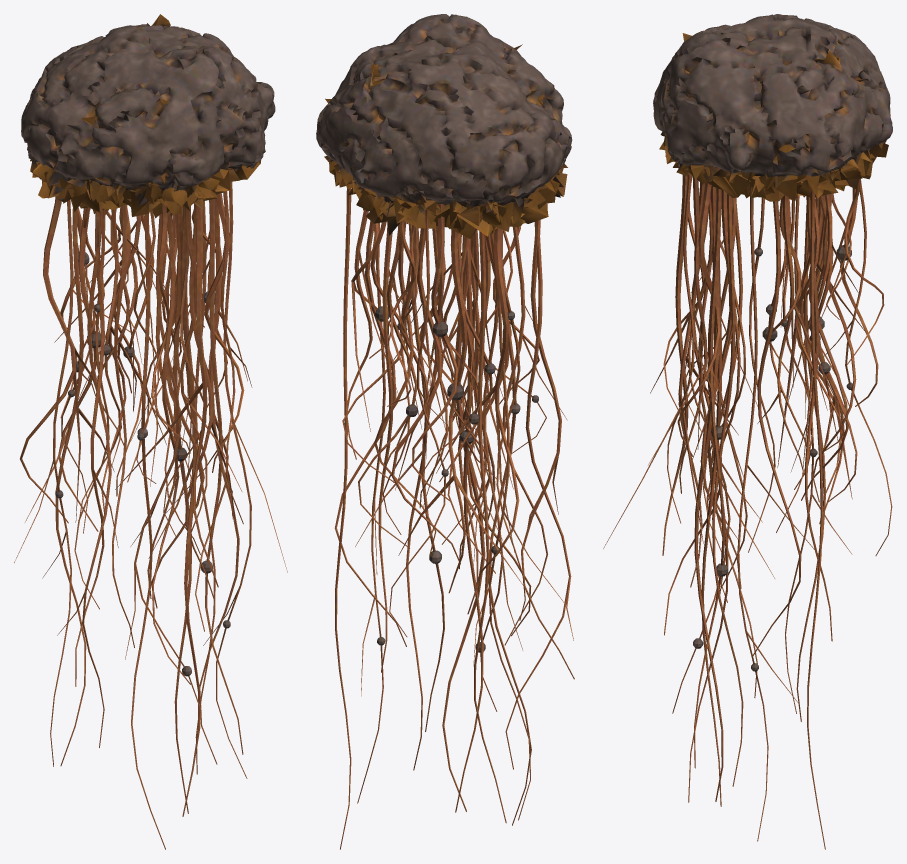
Rendered from jup_colony_lobe.glb.
The picture shows the model from 3 angles, left to right: view 1: azimuth 30°, elevation 25°; view 2: azimuth 150°, elevation 25°; view 3: azimuth 270°, elevation 25°; orthographic projection. The views are drawn at different scales.
Parts seen in each view (by area): view 1: lobe_body; view 2: lobe_body; view 3: lobe_body.
Part boxes in pixels (box(x1,y1,x2,y2)): lobe_body: box(14, 14, 287, 849); lobe_body: box(316, 14, 574, 849); lobe_body: box(603, 14, 892, 849).
Size of what is drawn, in the model's own units: 14.01 by 44.36 by 14.72.
Materials: 2 (2 with a texture image).
